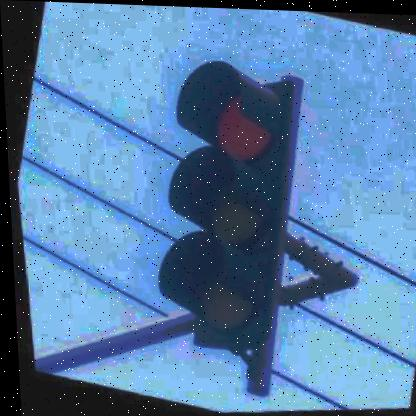Traffic Light -Red-: (114, 45, 328, 368)
